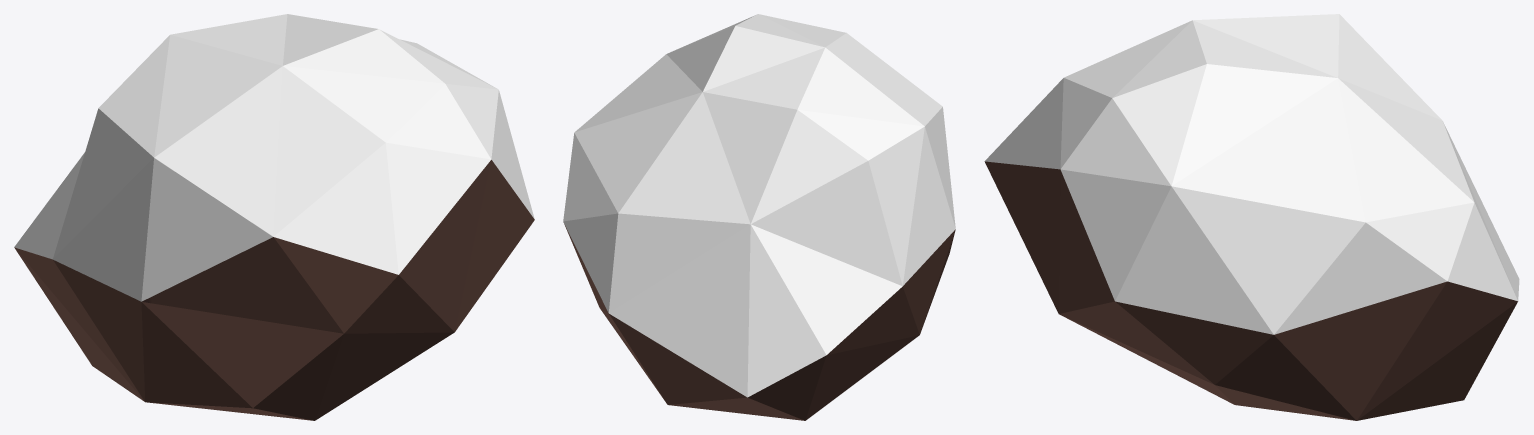
Rendered from snow_stone_013.fbx.
3 views of the same model, side by side, from view 1: azimuth 30°, elevation 25°; view 2: azimuth 150°, elevation 25°; view 3: azimuth 270°, elevation 25° (orthographic). The views are drawn at different scales.
Visible parts, largest first — view 1: snow_stone_013; view 2: snow_stone_013; view 3: snow_stone_013.
Boxes of the visible parts, x1,y1,x2,y2 form: snow_stone_013: [14, 14, 534, 420]; snow_stone_013: [563, 14, 955, 420]; snow_stone_013: [984, 14, 1519, 420].
Size of the model in its own units: 248 by 271 by 217.
